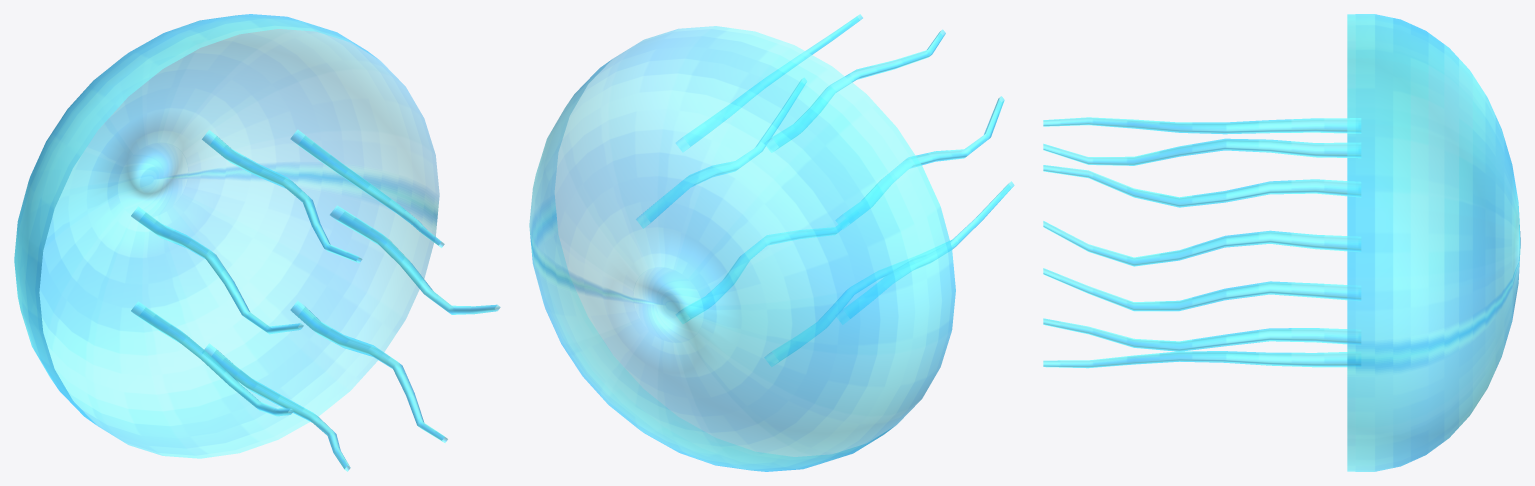
File: jellyfish.glb
The picture shows the model from 3 angles, left to right: view 1: azimuth 30°, elevation 25°; view 2: azimuth 150°, elevation 25°; view 3: azimuth 270°, elevation 25°; orthographic projection.
Visible parts, largest first — view 1: jelly_umbrella, jelly_tentacles; view 2: jelly_umbrella, jelly_tentacles; view 3: jelly_umbrella, jelly_tentacles.
Part boxes in pixels (x1,y1,x2,y2): jelly_umbrella: (14,14,439,458); jelly_tentacles: (131,129,500,471); jelly_umbrella: (529,26,955,471); jelly_tentacles: (636,14,1014,366); jelly_umbrella: (1347,14,1520,471); jelly_tentacles: (1043,117,1361,368).
Size of the model in its own units: 0.3172 by 0.3172 by 0.3304.
1 material, 1 textured.
